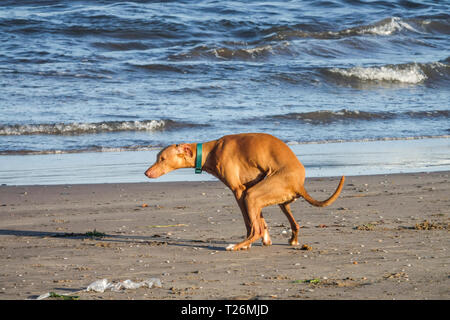dog_pooping: (143, 132, 348, 257)
